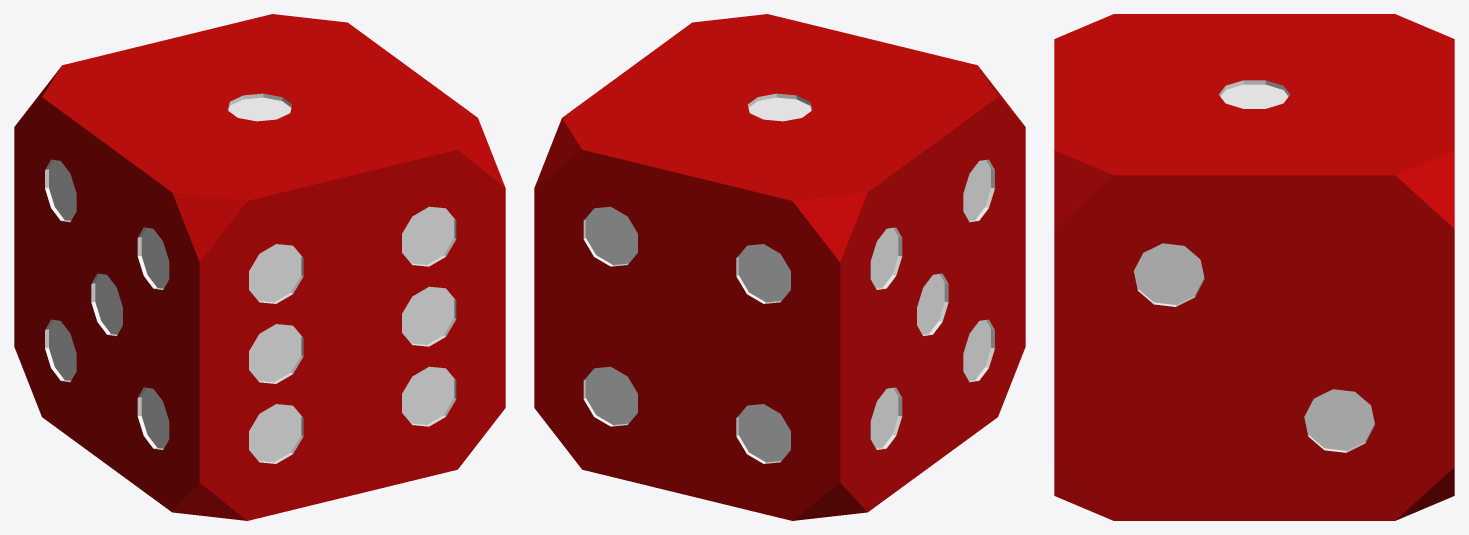
Rendered from Game_Dice_D6_Red_01.fbx.
3 renders of one model, left to right at view 1: azimuth 30°, elevation 25°; view 2: azimuth 150°, elevation 25°; view 3: azimuth 270°, elevation 25°, orthographic. The views are drawn at different scales.
Parts seen in each view (by area): view 1: Game_Dice_D6_Red_01; view 2: Game_Dice_D6_Red_01; view 3: Game_Dice_D6_Red_01.
Part boxes in pixels (x1,y1,x2,y2): Game_Dice_D6_Red_01: [14, 14, 505, 520]; Game_Dice_D6_Red_01: [534, 14, 1025, 520]; Game_Dice_D6_Red_01: [1054, 14, 1454, 520].
Bounding box in the file's own units: 11.03 × 11.03 × 11.58.
